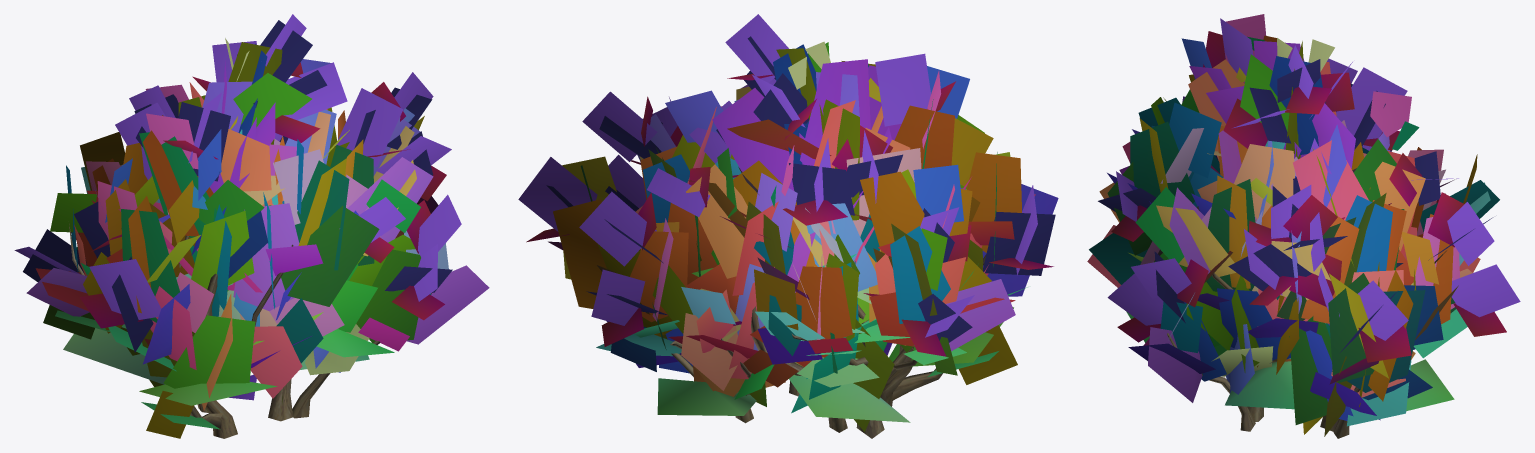
Rendered from Homeworld_Exterior_Xm_Plant_Grass_Desert_02_Lod0.fbx.
3 renders of one model, left to right at view 1: azimuth 30°, elevation 25°; view 2: azimuth 150°, elevation 25°; view 3: azimuth 270°, elevation 25°, orthographic. The views are drawn at different scales.
Visible parts, largest first — view 1: Area_Xm_Grass_CWSM_Tygm_05_Leaf_Lod0, Area_Xm_Grass_CWSM_Tygm_05_Bark_Lod0; view 2: Area_Xm_Grass_CWSM_Tygm_05_Leaf_Lod0, Area_Xm_Grass_CWSM_Tygm_05_Bark_Lod0; view 3: Area_Xm_Grass_CWSM_Tygm_05_Leaf_Lod0, Area_Xm_Grass_CWSM_Tygm_05_Bark_Lod0.
Boxes of the visible parts, bbox=[...] form: Area_Xm_Grass_CWSM_Tygm_05_Leaf_Lod0: bbox=[14, 14, 489, 438]; Area_Xm_Grass_CWSM_Tygm_05_Bark_Lod0: bbox=[69, 223, 431, 438]; Area_Xm_Grass_CWSM_Tygm_05_Leaf_Lod0: bbox=[518, 14, 1058, 431]; Area_Xm_Grass_CWSM_Tygm_05_Bark_Lod0: bbox=[641, 248, 986, 438]; Area_Xm_Grass_CWSM_Tygm_05_Leaf_Lod0: bbox=[1087, 14, 1520, 436]; Area_Xm_Grass_CWSM_Tygm_05_Bark_Lod0: bbox=[1167, 250, 1446, 438].
Size of the model in its own units: 4.25 by 3.52 by 3.53.
